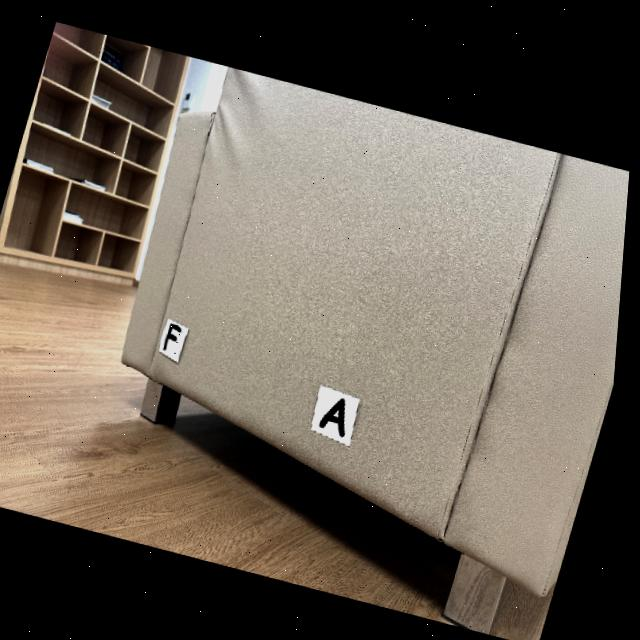F: (168, 322, 186, 349)
